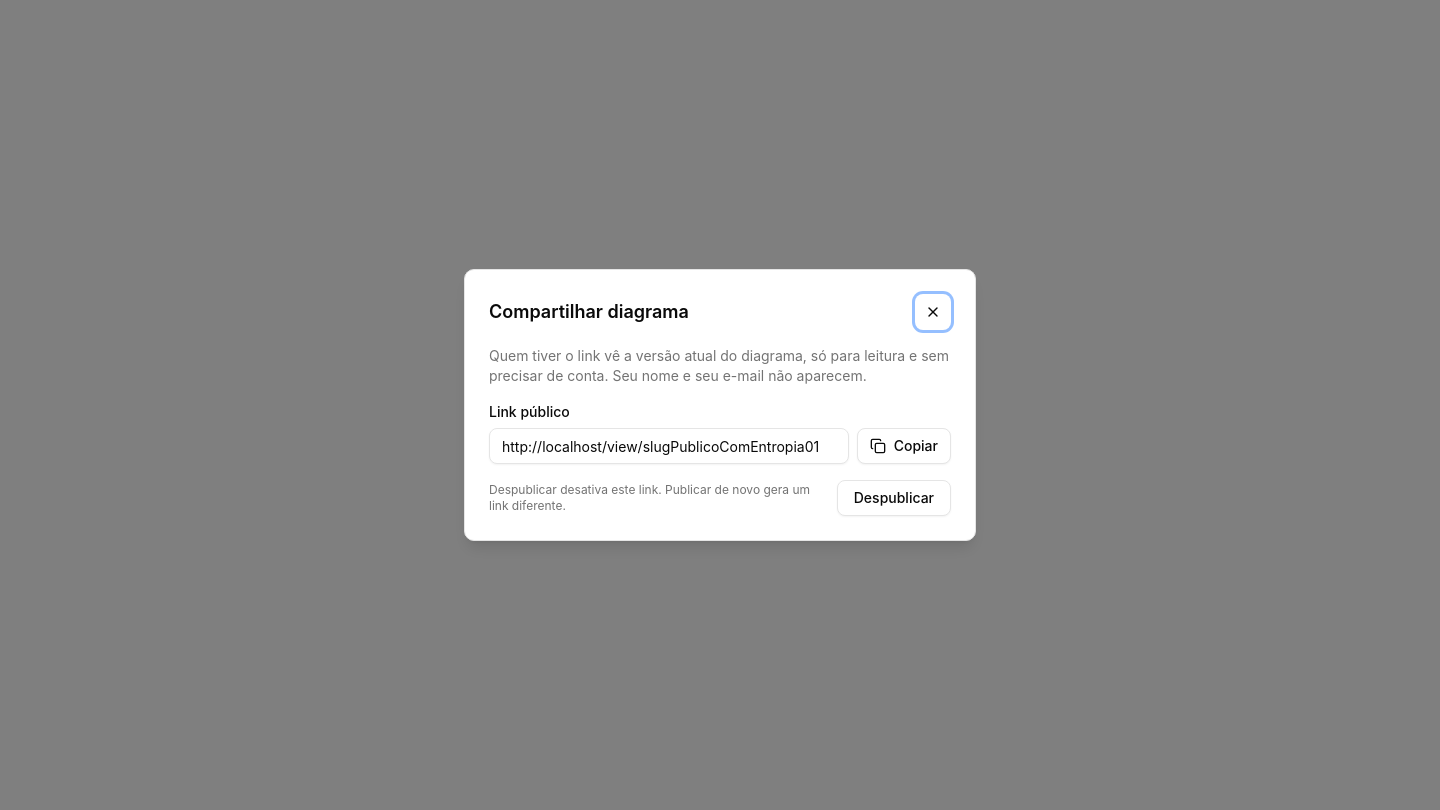
Test case: ShareDialog › copies the link
Click the button "Copiar" at (904, 446), box x1=857 y1=428 x2=951 y2=464
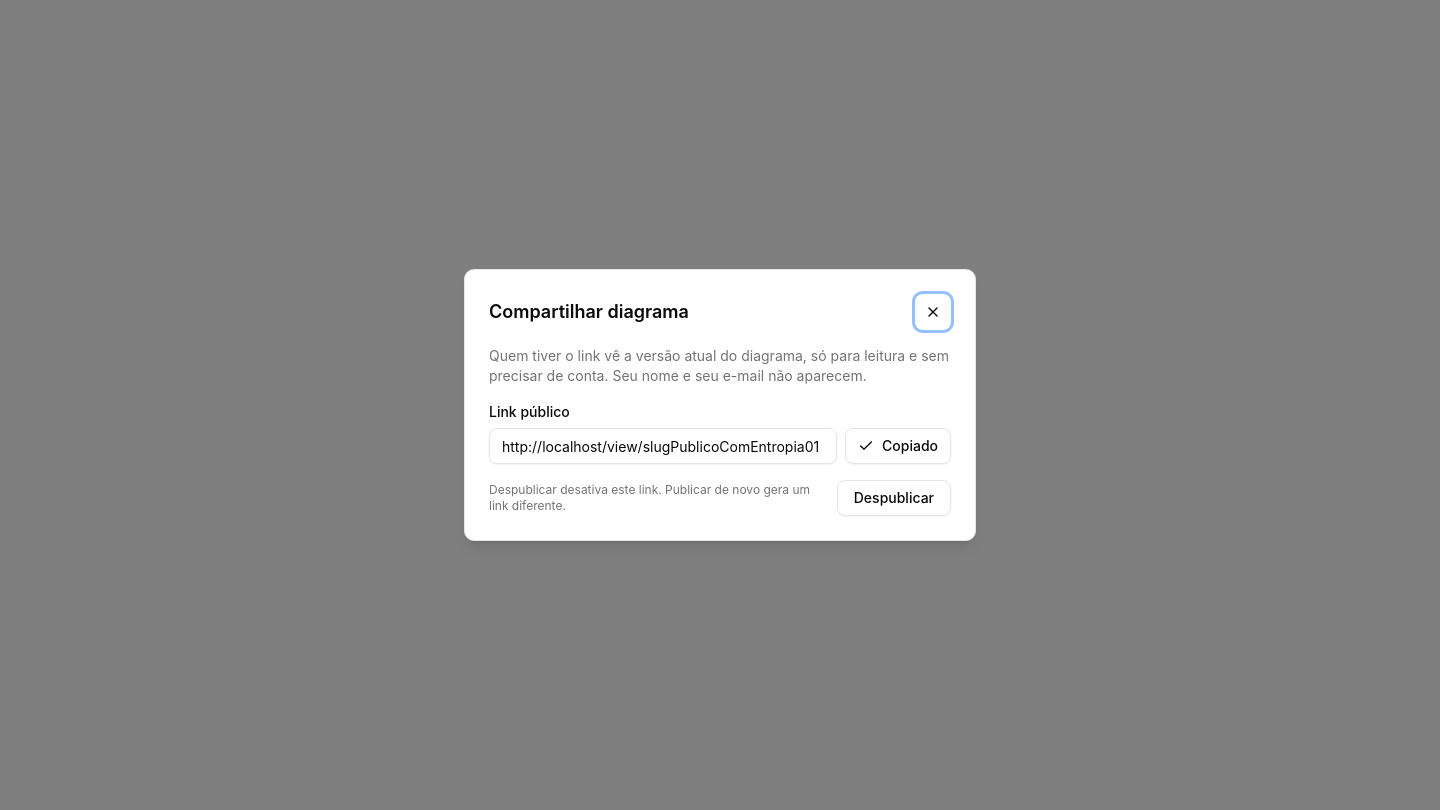
Expected: the button "Copiado" is shown, x1=845 y1=428 x2=951 y2=464
